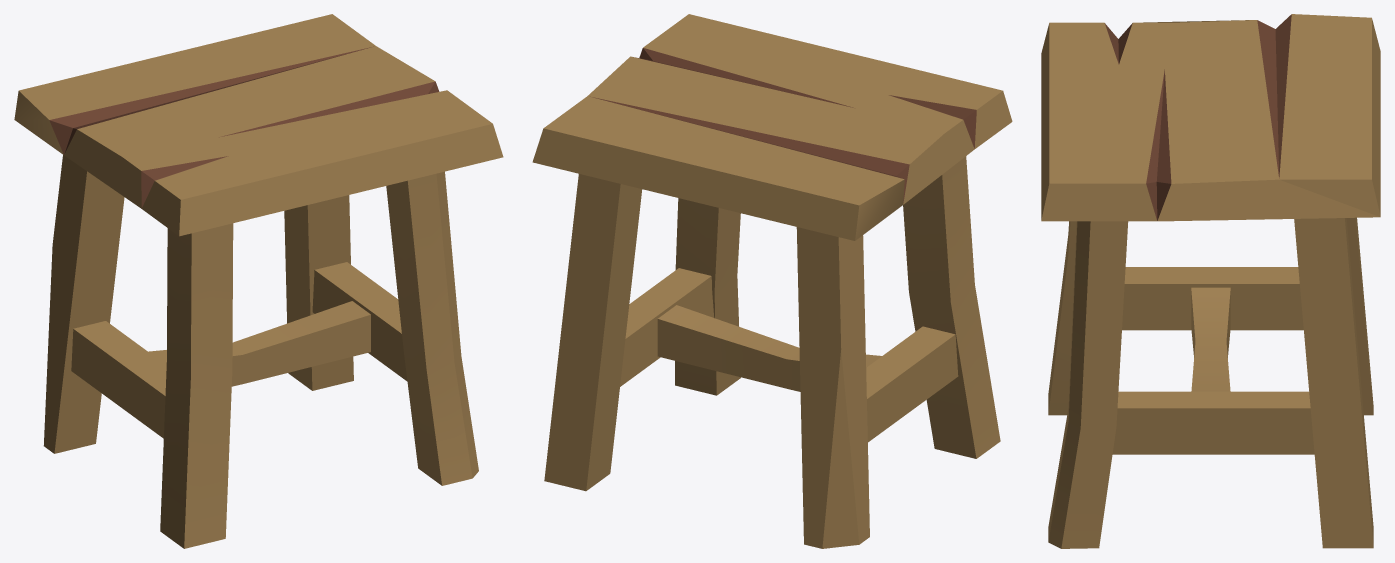
File: Stool_00.FBX
3 renders of one model, left to right at view 1: azimuth 30°, elevation 25°; view 2: azimuth 150°, elevation 25°; view 3: azimuth 270°, elevation 25°, orthographic. The views are drawn at different scales.
Parts seen in each view (by area): view 1: Stool_00; view 2: Stool_00; view 3: Stool_00.
Part boxes in pixels (x1,y1,x2,y2): Stool_00: (14,14,503,548); Stool_00: (532,14,1012,548); Stool_00: (1041,14,1380,548).
Bounding box in the file's own units: 10.51 × 10.45 × 8.71.
